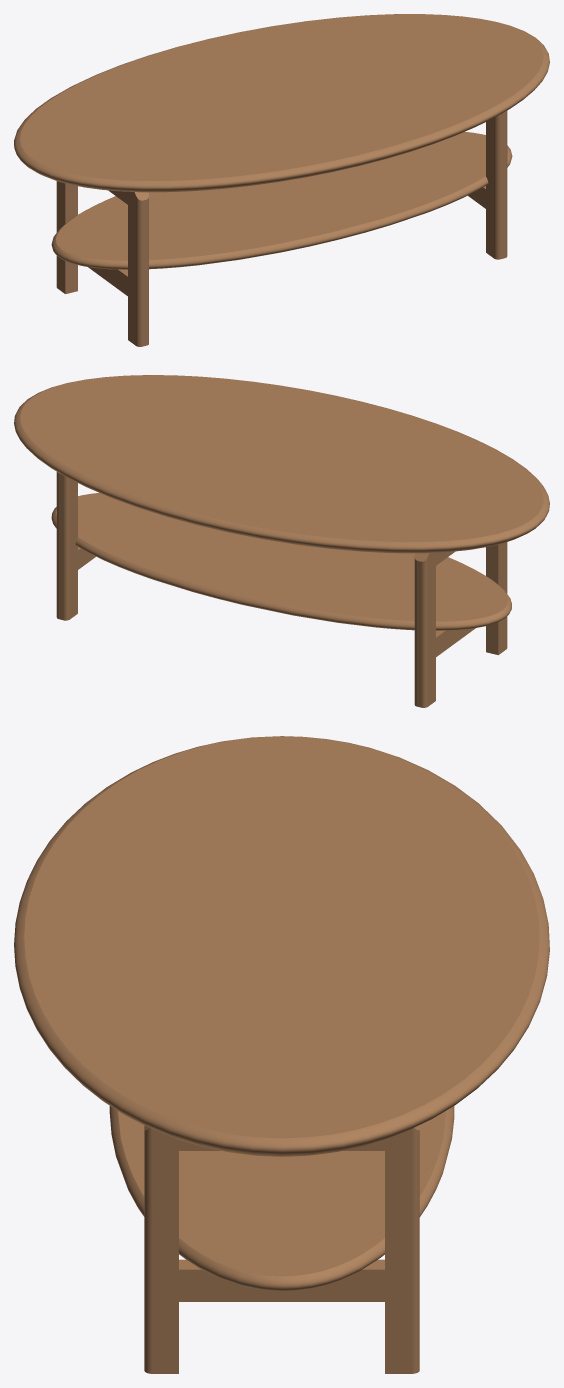
The model's file is 404_センターテーブル.glb.
3 renders of one model, top to bottom at view 1: azimuth 30°, elevation 25°; view 2: azimuth 150°, elevation 25°; view 3: azimuth 270°, elevation 25°, orthographic. The views are drawn at different scales.
Visible parts, largest first — view 1: 404_センターテーブル; view 2: 404_センターテーブル; view 3: 404_センターテーブル.
Boxes of the visible parts, <box> form: 404_センターテーブル: <box>14,14,549,346</box>; 404_センターテーブル: <box>14,375,549,707</box>; 404_センターテーブル: <box>14,736,549,1373</box>.
Bounding box in the file's own units: 1.23 × 0.4 × 0.6759.
